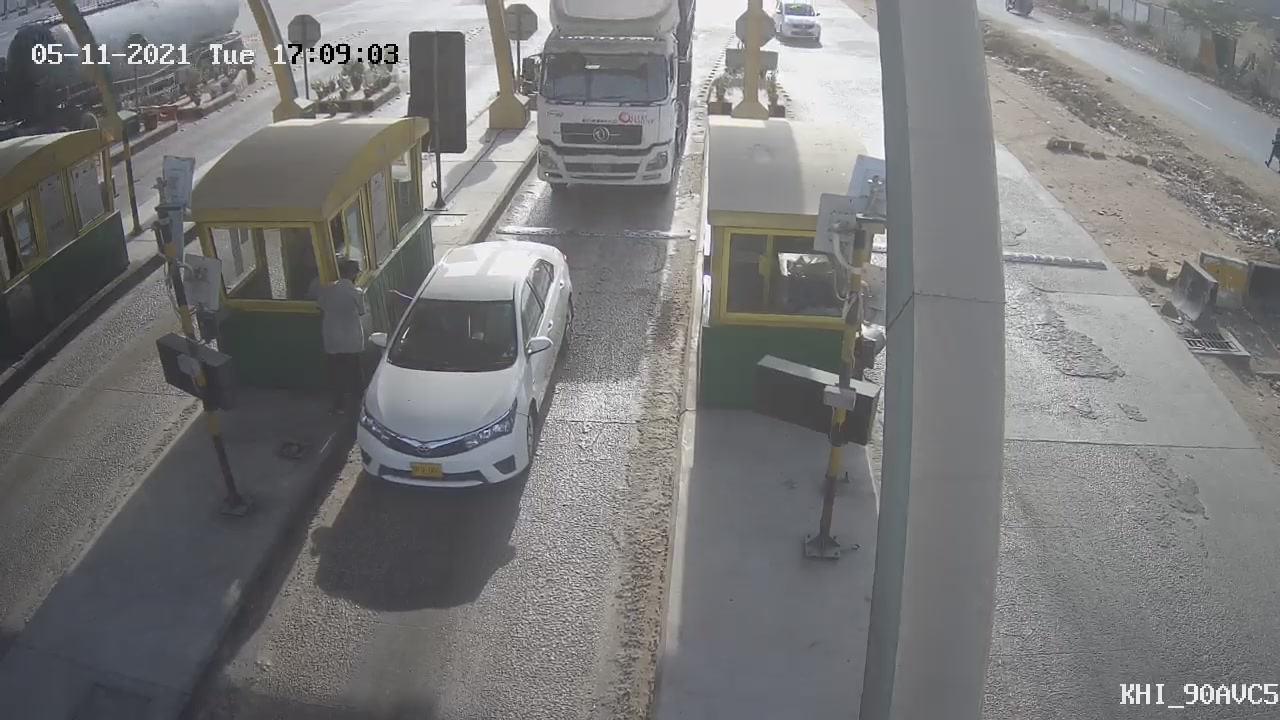F1: (342, 227, 589, 508)
